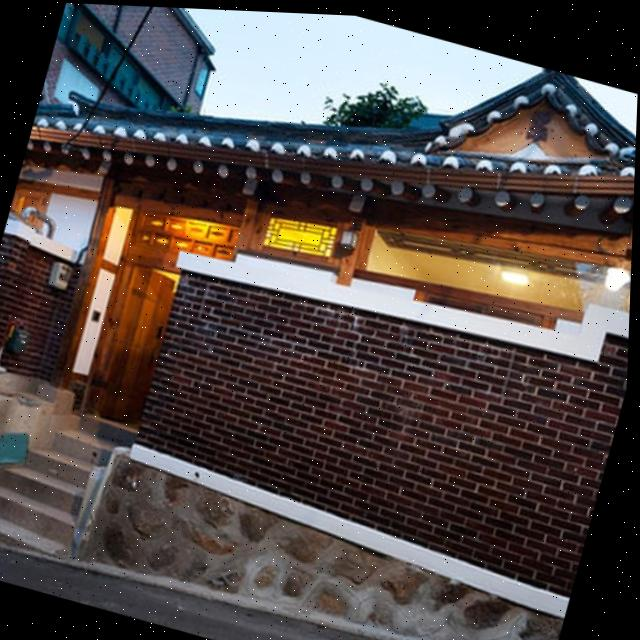building: (0, 0, 640, 615)
